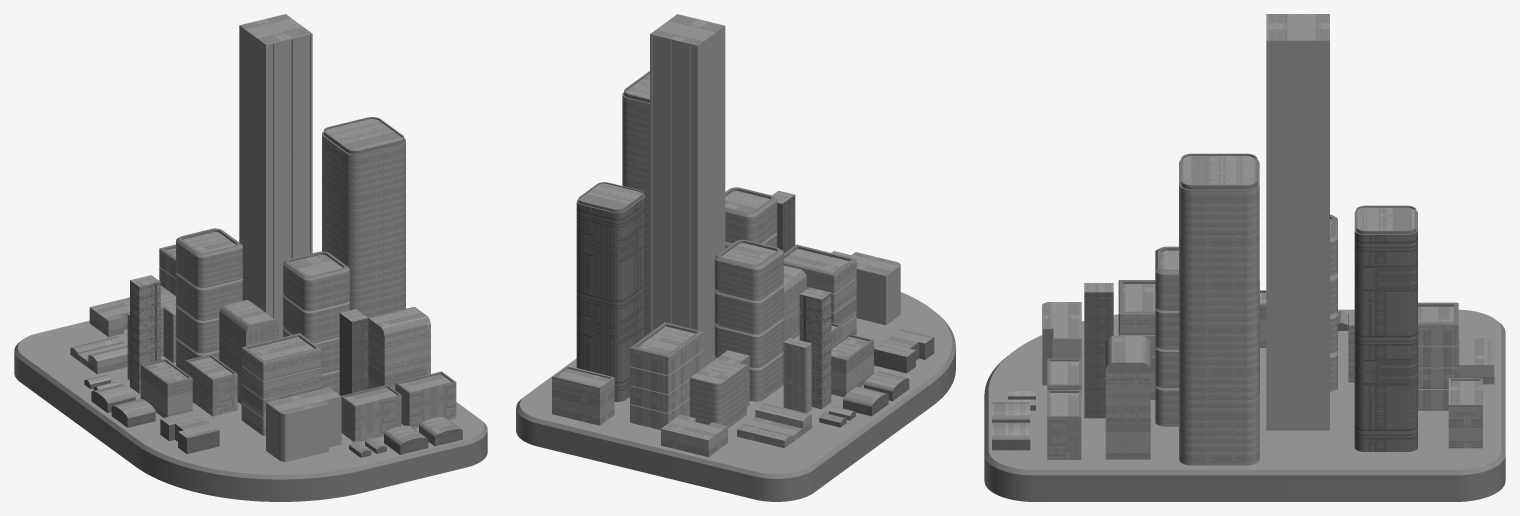
Rendered from tri-planar_city.glb.
3 views of the same model, side by side, from view 1: azimuth 30°, elevation 25°; view 2: azimuth 150°, elevation 25°; view 3: azimuth 270°, elevation 25° (orthographic). The views are drawn at different scales.
Visible parts, largest first — view 1: Object_3, Object_4, Object_2, Object_5; view 2: Object_3, Object_5, Object_2, Object_4; view 3: Object_3, Object_2, Object_4, Object_5.
Boxes of the visible parts, x1,y1,x2,y2 form: Object_3: [239, 14, 405, 394]; Object_4: [84, 307, 462, 461]; Object_2: [14, 320, 487, 501]; Object_5: [70, 228, 278, 404]; Object_3: [576, 14, 777, 401]; Object_5: [552, 239, 831, 456]; Object_2: [516, 292, 955, 501]; Object_4: [772, 190, 934, 427]; Object_3: [1155, 14, 1417, 465]; Object_2: [984, 309, 1505, 501]; Object_4: [992, 280, 1348, 459]; Object_5: [1259, 214, 1494, 448].
Bounding box in the file's own units: 12.23 × 14.62 × 16.44.
4 materials, 4 textured.
